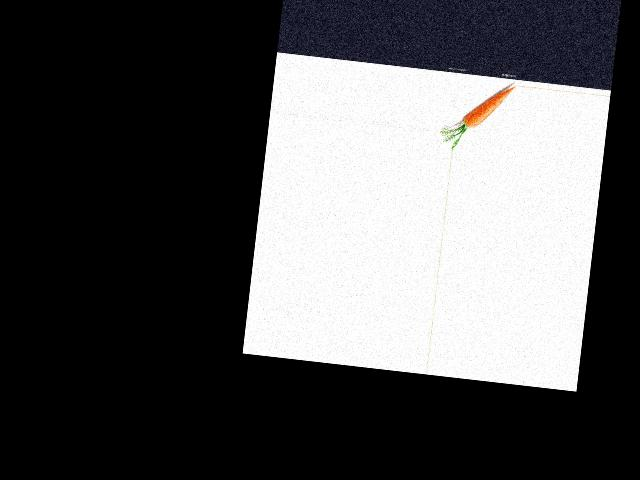carrot: (454, 78, 515, 146)
